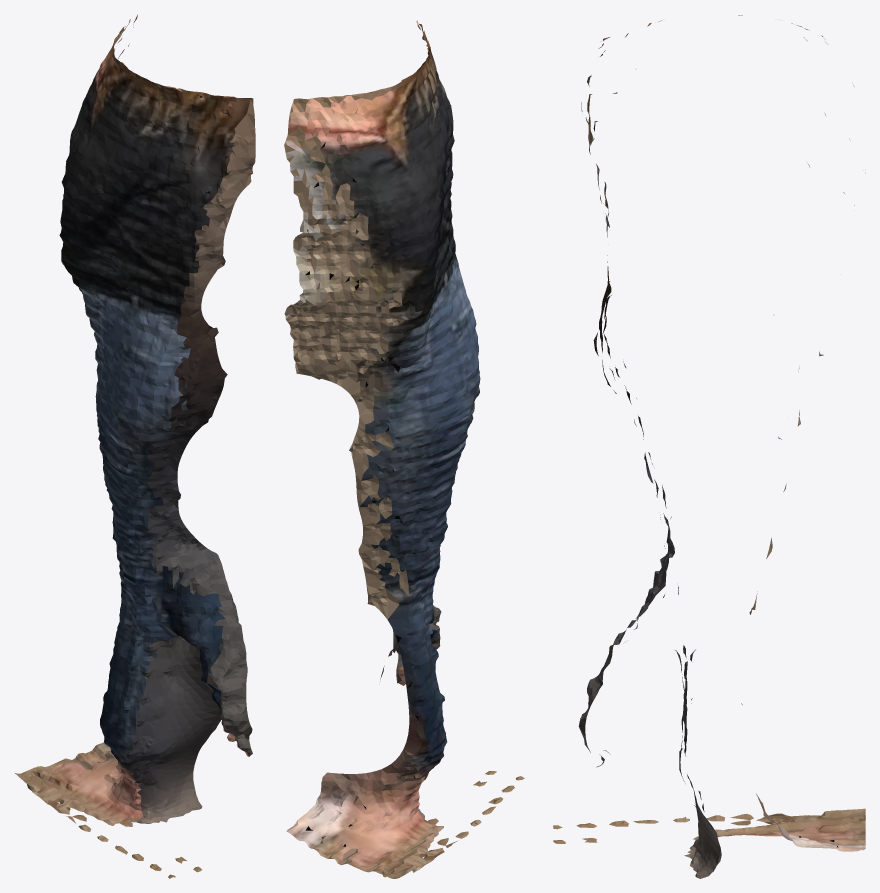
3 renders of one model, left to right at view 1: azimuth 30°, elevation 25°; view 2: azimuth 150°, elevation 25°; view 3: azimuth 270°, elevation 25°, orthographic. The views are drawn at different scales.
Bounding box in the file's own units: 0.2064 × 1.29 × 0.4382.
Materials: 2 (2 with a texture image).
